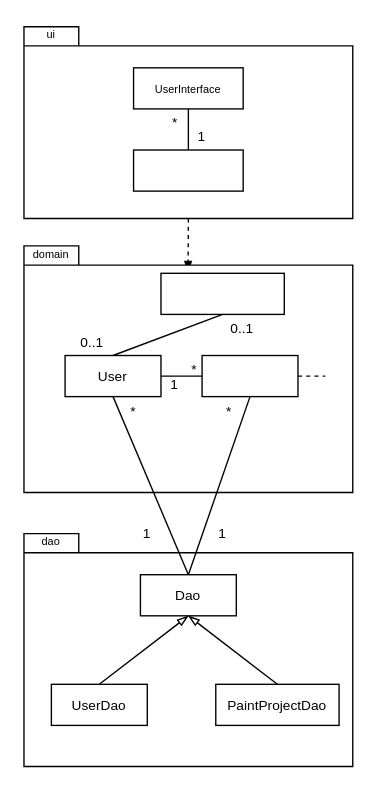
This 377x790 diagram has some shape labels left out. Here are the shapes that lost their labels. From the top down, the centre of each, then its label:
the point at 187,170: TreeViewHelper
the point at 222,293: ManagerService
the point at 249,375: PaintProject
